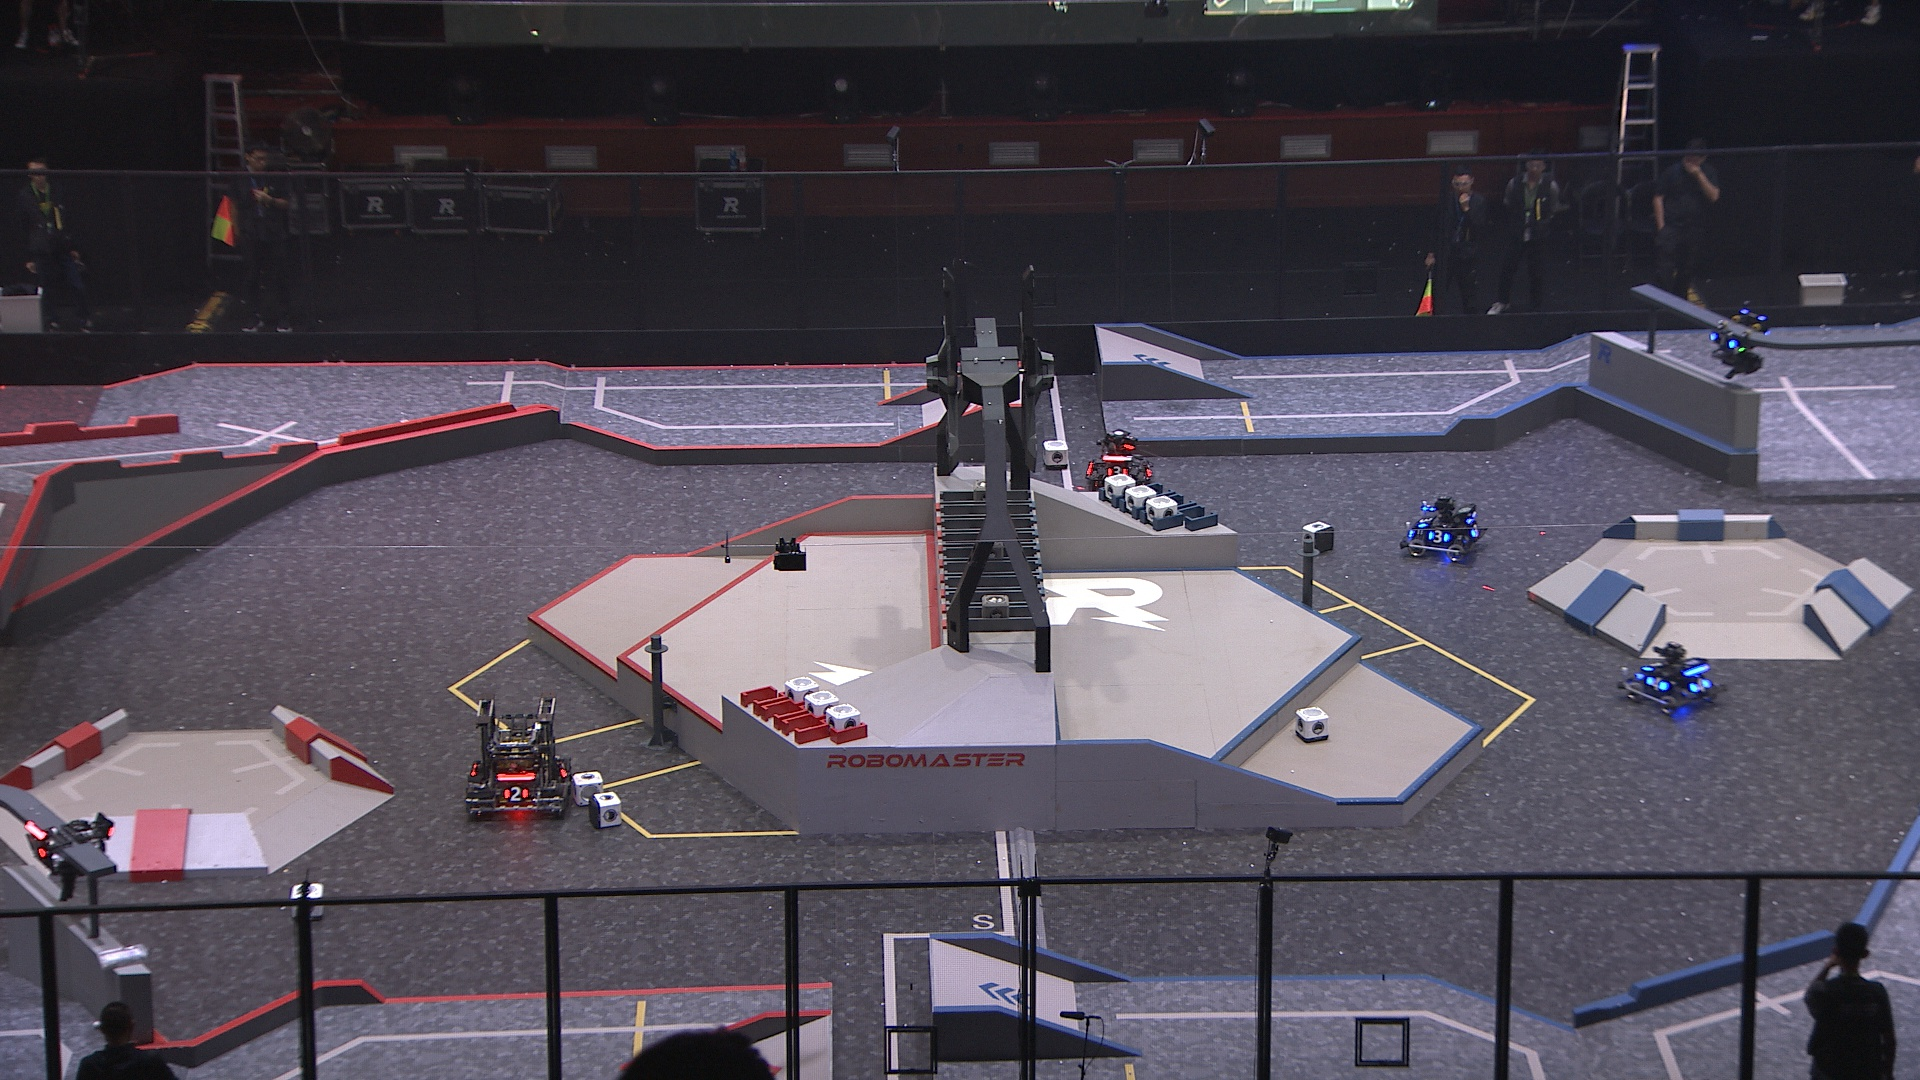armor: (1706, 330, 1741, 349), (1642, 674, 1671, 694), (25, 833, 46, 860), (501, 785, 527, 804), (1688, 675, 1712, 695), (1428, 527, 1451, 546), (1642, 657, 1665, 674), (1414, 512, 1436, 529), (1106, 463, 1130, 479), (1468, 520, 1484, 542), (556, 760, 571, 782)
car: (462, 692, 584, 825), (1618, 636, 1722, 713), (1400, 493, 1493, 564), (1083, 429, 1158, 495)
watcher: (21, 808, 112, 907), (1702, 297, 1770, 378)
